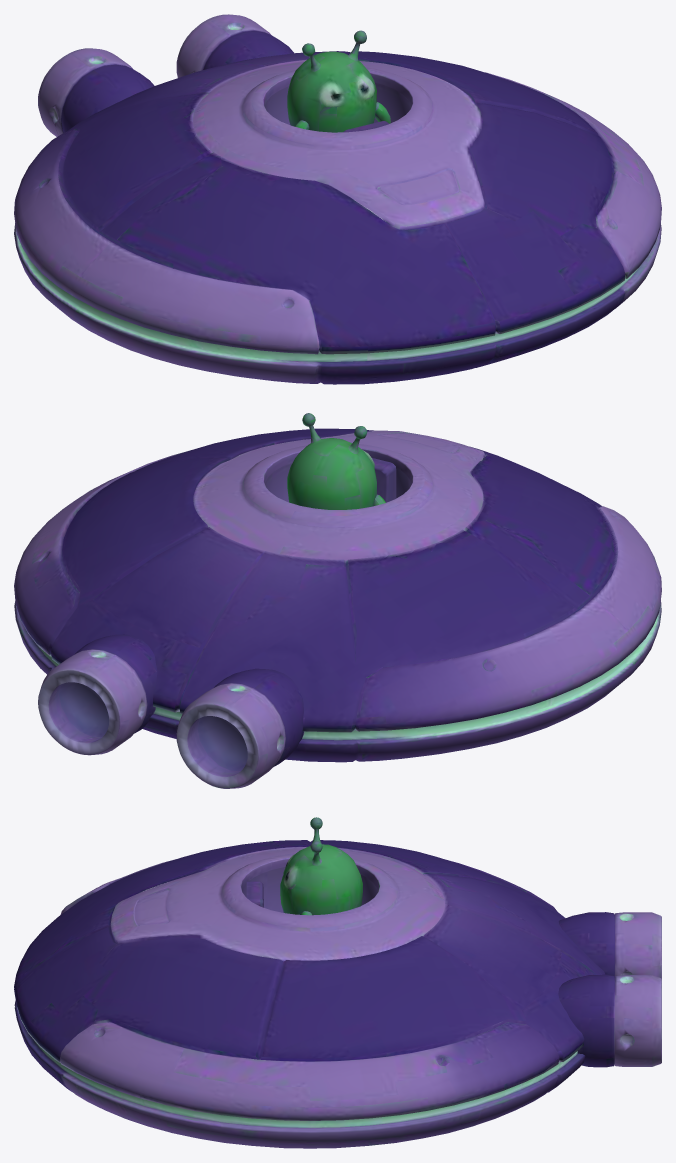
File: alien_ore_carrier.glb
3 renders of one model, top to bottom at view 1: azimuth 30°, elevation 25°; view 2: azimuth 150°, elevation 25°; view 3: azimuth 270°, elevation 25°, orthographic. The views are drawn at different scales.
Visible parts, largest first — view 1: alien_ore_carrier; view 2: alien_ore_carrier; view 3: alien_ore_carrier.
Boxes of the visible parts, x1,y1,x2,y2 form: alien_ore_carrier: (14, 14, 661, 384); alien_ore_carrier: (14, 413, 661, 788); alien_ore_carrier: (14, 817, 661, 1148).
Size of the model in its own units: 1.76 by 0.788 by 1.9.
1 material, 1 textured.
